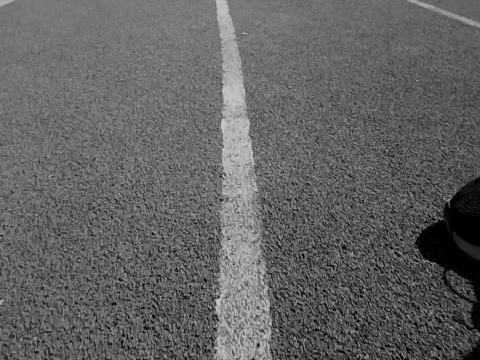Lines: (214, 0, 272, 360)
